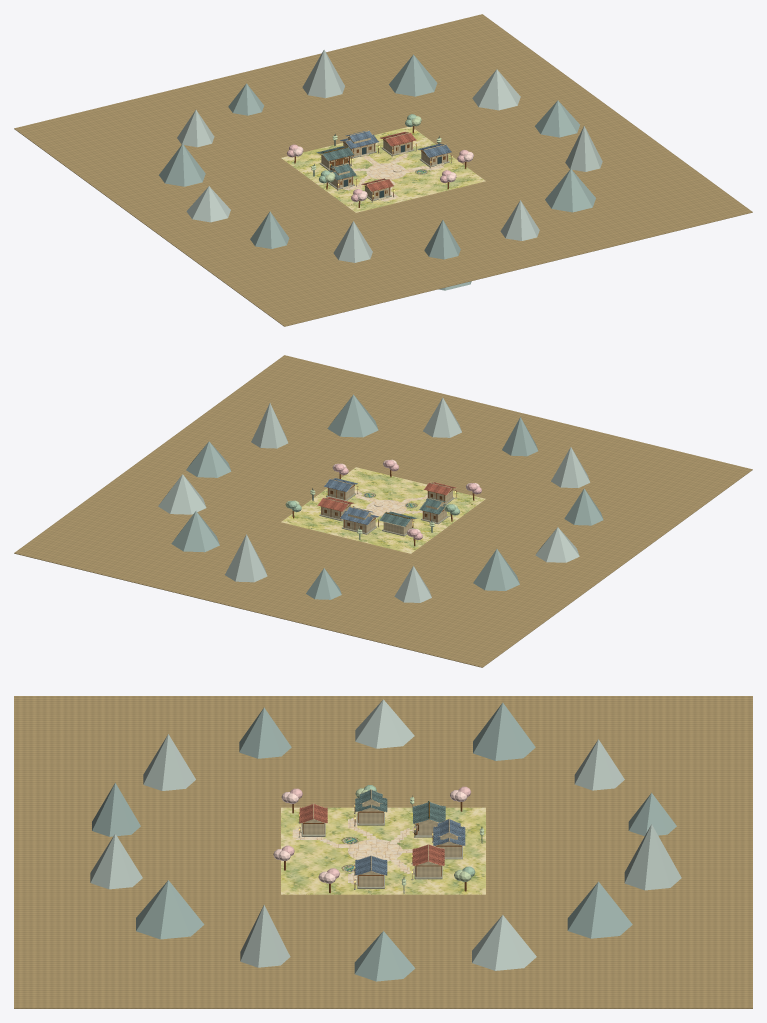
Rendered from orbit-village.glb.
3 views of the same model, one above another, from view 1: azimuth 30°, elevation 25°; view 2: azimuth 150°, elevation 25°; view 3: azimuth 270°, elevation 25° (orthographic). The views are drawn at different scales.
Visible parts, largest first — view 1: Batched_Ivory, Batched_Mountain, Batched_MountainFar, PaintedGround, Batched_Plaster, Batched_Blue, Batched_Jade, PaintedPaths, Batched_Red, Batched_Wood, PaintedPlaza; view 2: Batched_Ivory, Batched_Mountain, Batched_MountainFar, PaintedGround, Batched_Plaster, Batched_Blue, Batched_Jade, Batched_Red; view 3: Batched_Ivory, Batched_Mountain, Batched_MountainFar, PaintedGround, Batched_Plaster, Batched_Blue, Batched_Jade, Batched_Red, PaintedPaths, PaintedPlaza, Batched_PinkLight, Batched_Stone (+1 smaller).
Part boxes in pixels (<box>): Batched_Ivory: <box>14,14,752,326</box>; Batched_Mountain: <box>159,54,595,290</box>; Batched_MountainFar: <box>177,49,602,262</box>; PaintedGround: <box>281,127,485,212</box>; Batched_Plaster: <box>321,136,448,199</box>; Batched_Blue: <box>340,131,451,157</box>; Batched_Jade: <box>313,134,439,180</box>; PaintedPaths: <box>344,154,444,201</box>; Batched_Red: <box>361,132,416,191</box>; Batched_Wood: <box>294,126,466,207</box>; PaintedPlaza: <box>366,163,406,179</box>; Batched_Ivory: <box>14,355,752,667</box>; Batched_Mountain: <box>171,394,603,599</box>; Batched_MountainFar: <box>158,397,590,602</box>; PaintedGround: <box>281,467,485,553</box>; Batched_Plaster: <box>321,486,452,534</box>; Batched_Blue: <box>324,478,378,524</box>; Batched_Jade: <box>312,488,445,539</box>; Batched_Red: <box>317,482,456,511</box>; Batched_Ivory: <box>14,696,752,1008</box>; Batched_Mountain: <box>92,702,676,981</box>; Batched_MountainFar: <box>90,699,681,970</box>; PaintedGround: <box>281,807,485,894</box>; Batched_Plaster: <box>303,802,461,886</box>; Batched_Blue: <box>355,819,465,875</box>; Batched_Jade: <box>355,790,482,893</box>; Batched_Red: <box>299,804,444,865</box>; PaintedPaths: <box>292,818,412,884</box>; PaintedPlaza: <box>347,839,402,861</box>; Batched_PinkLight: <box>273,790,467,883</box>; Batched_Stone: <box>298,812,462,889</box>.
Bounding box in the file's own units: 180 × 23.71 × 180.
Materials: 25 (16 with a texture image).
